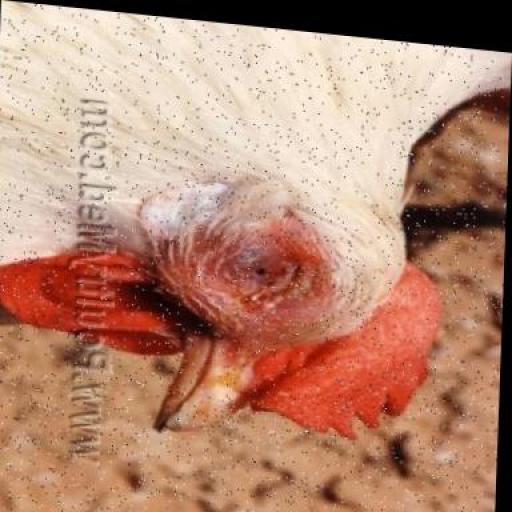disease: (192, 206, 342, 323)
